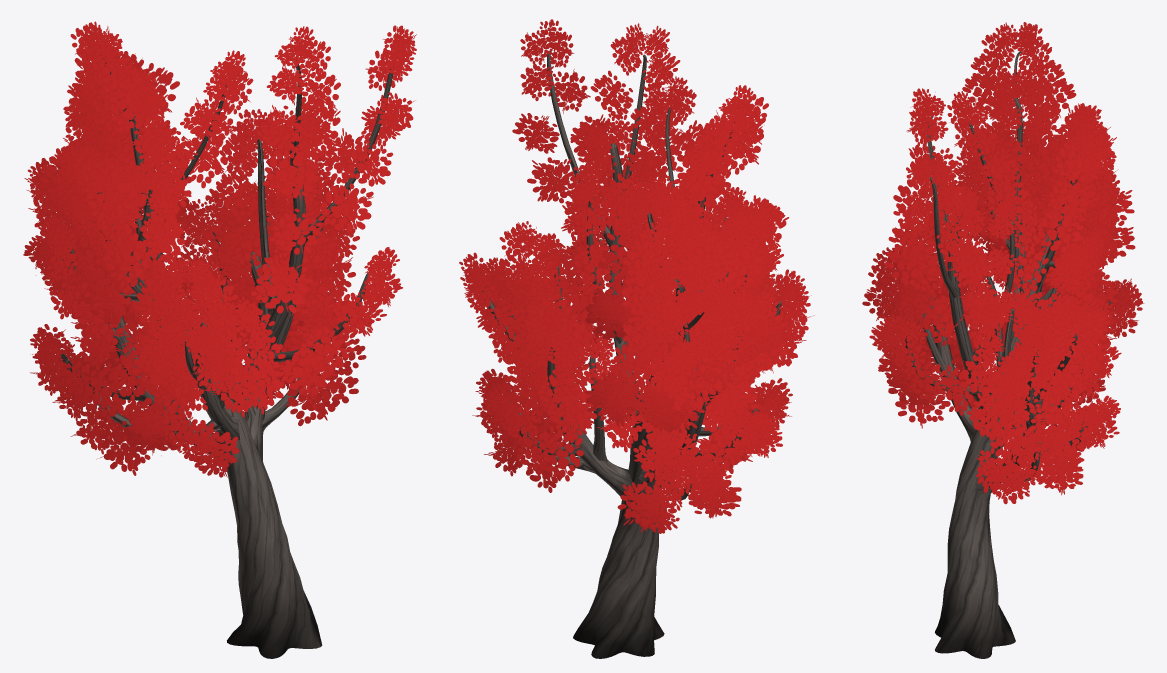
File: TwistedTree_2.glb
3 renders of one model, left to right at view 1: azimuth 30°, elevation 25°; view 2: azimuth 150°, elevation 25°; view 3: azimuth 270°, elevation 25°, orthographic. The views are drawn at different scales.
Parts seen in each view (by area): view 1: TwistedTree_2; view 2: TwistedTree_2; view 3: TwistedTree_2.
Part boxes in pixels (x1,y1,x2,y2): TwistedTree_2: [23, 21, 416, 658]; TwistedTree_2: [459, 19, 814, 658]; TwistedTree_2: [862, 22, 1144, 658].
Size of the model in its own units: 10.56 by 18.95 by 9.2.
Materials: 2 (2 with a texture image).
